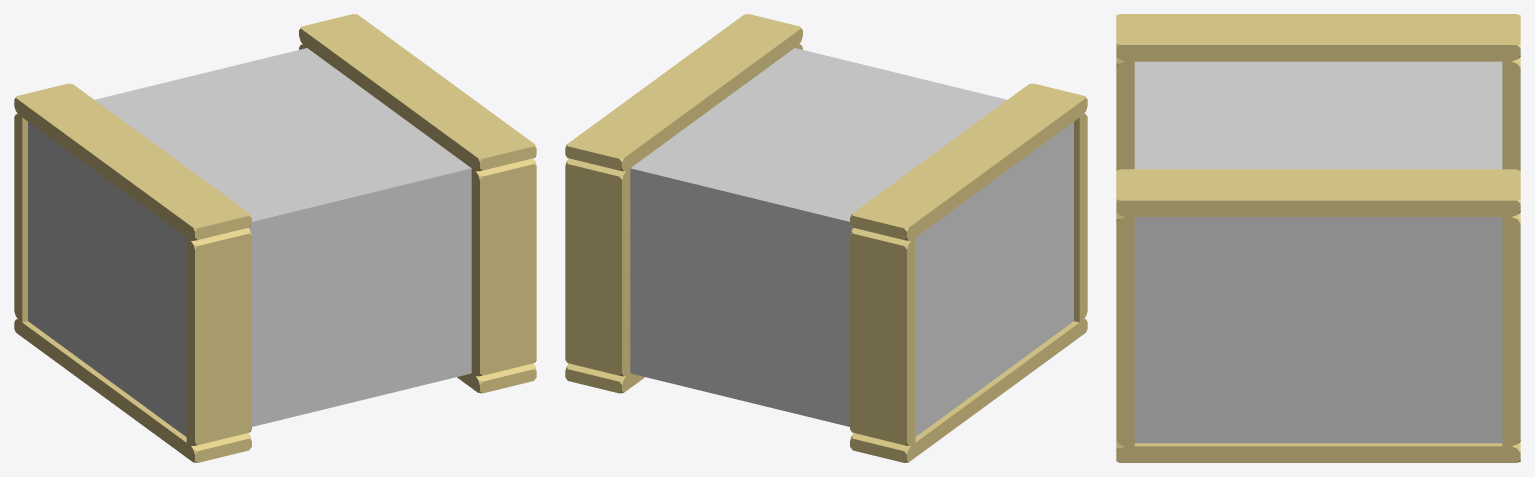
Rendered from SM_Crate_Large.fbx.
3 views of the same model, side by side, from view 1: azimuth 30°, elevation 25°; view 2: azimuth 150°, elevation 25°; view 3: azimuth 270°, elevation 25° (orthographic). The views are drawn at different scales.
Visible parts, largest first — view 1: Cube; view 2: Cube; view 3: Cube.
Boxes of the visible parts, <box> form: Cube: <box>14,14,536,462</box>; Cube: <box>565,14,1087,462</box>; Cube: <box>1116,14,1520,462</box>.
Size of the model in its own units: 120 by 78.7 by 110.
